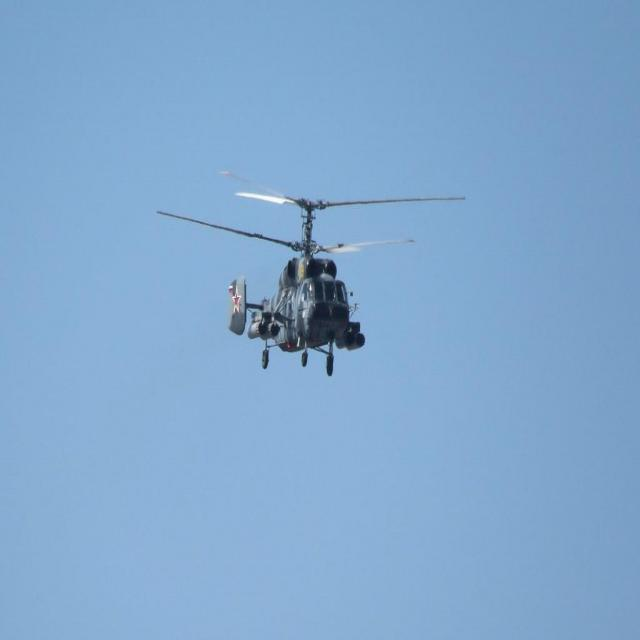MIL_HELO: (122, 146, 494, 394)
